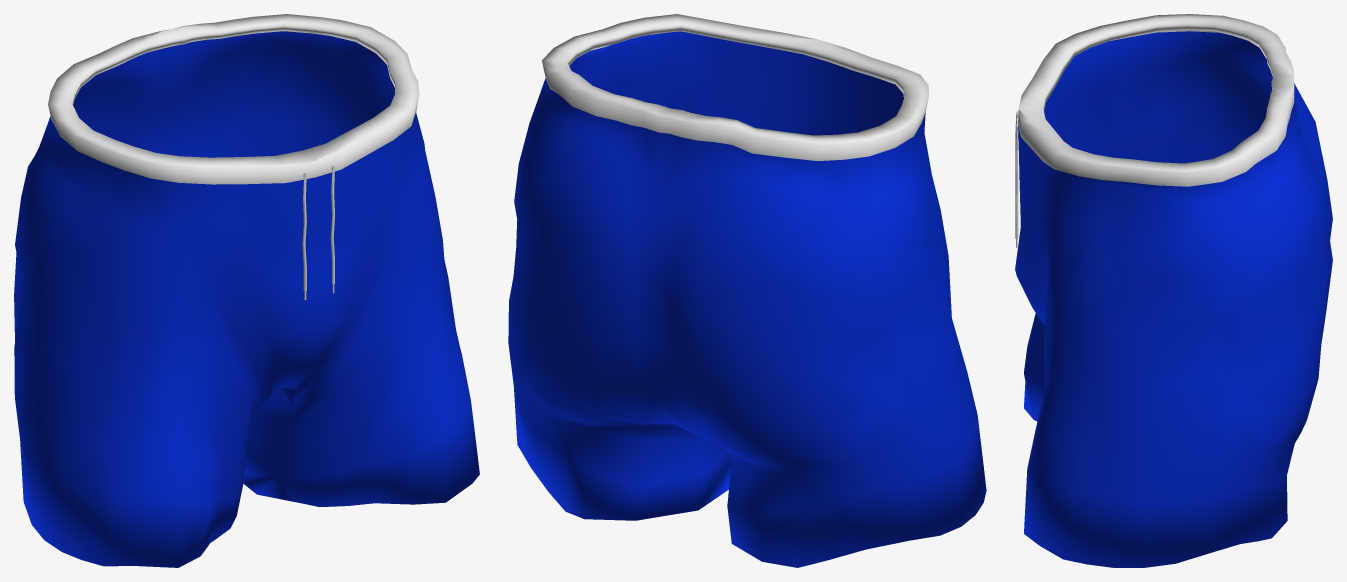
Rendered from Male_Shots.fbx.
The picture shows the model from 3 angles, left to right: view 1: azimuth 30°, elevation 25°; view 2: azimuth 150°, elevation 25°; view 3: azimuth 270°, elevation 25°; orthographic projection. The views are drawn at different scales.
Parts seen in each view (by area): view 1: Shots; view 2: Shots; view 3: Shots.
Part boxes in pixels (<box>): Shots: <box>14,14,479,567</box>; Shots: <box>508,14,986,567</box>; Shots: <box>1015,14,1332,567</box>.
Bounding box in the file's own units: 23.1 × 22.58 × 16.06.
